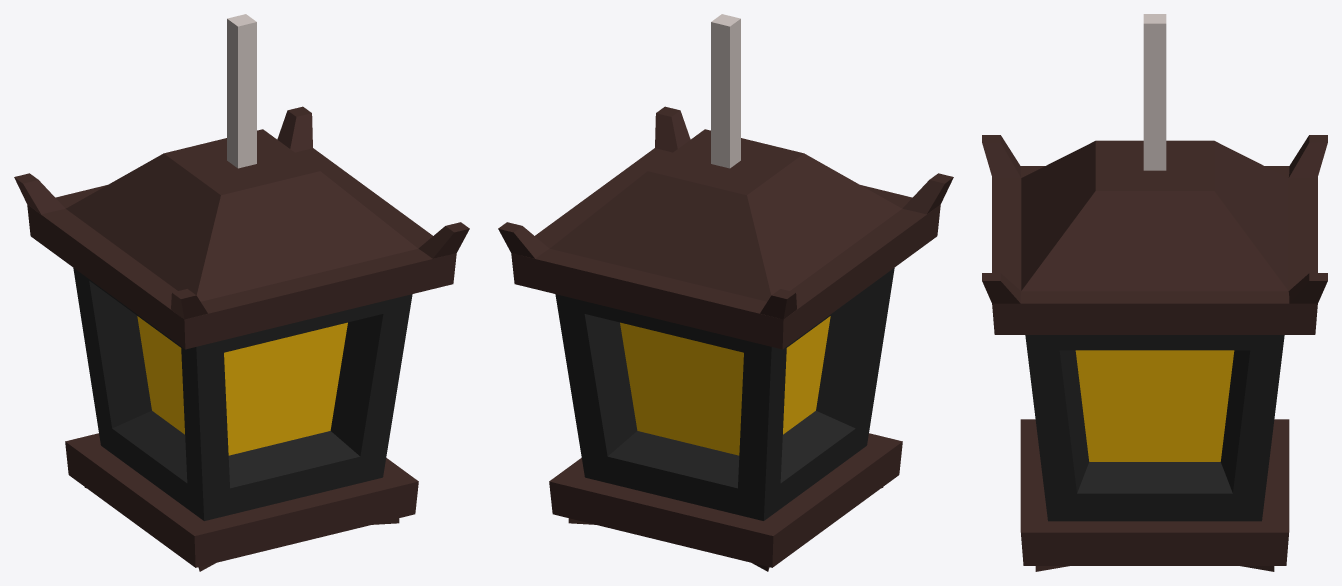
The model's file is Lantern.fbx.
3 views of the same model, side by side, from view 1: azimuth 30°, elevation 25°; view 2: azimuth 150°, elevation 25°; view 3: azimuth 270°, elevation 25° (orthographic). The views are drawn at different scales.
Parts seen in each view (by area): view 1: Plane; view 2: Plane; view 3: Plane.
Part boxes in pixels (x1,y1,x2,y2): Plane: (14, 14, 469, 571); Plane: (498, 14, 953, 571); Plane: (982, 14, 1327, 571).
Size of the model in its own units: 130 by 208 by 130.
